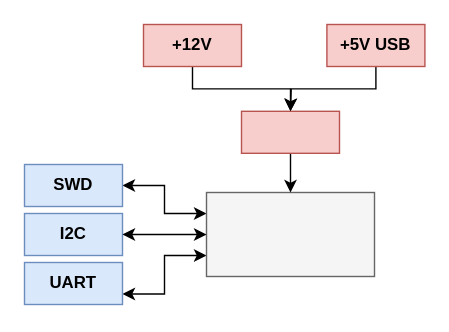
The diagram is 449 pixels wide and 332 high, and some of its shapes have lost their labels. Each missing label, with the centre of its shape:
Protections: the point at 290,131
STM32F405RGT6: the point at 289,233
